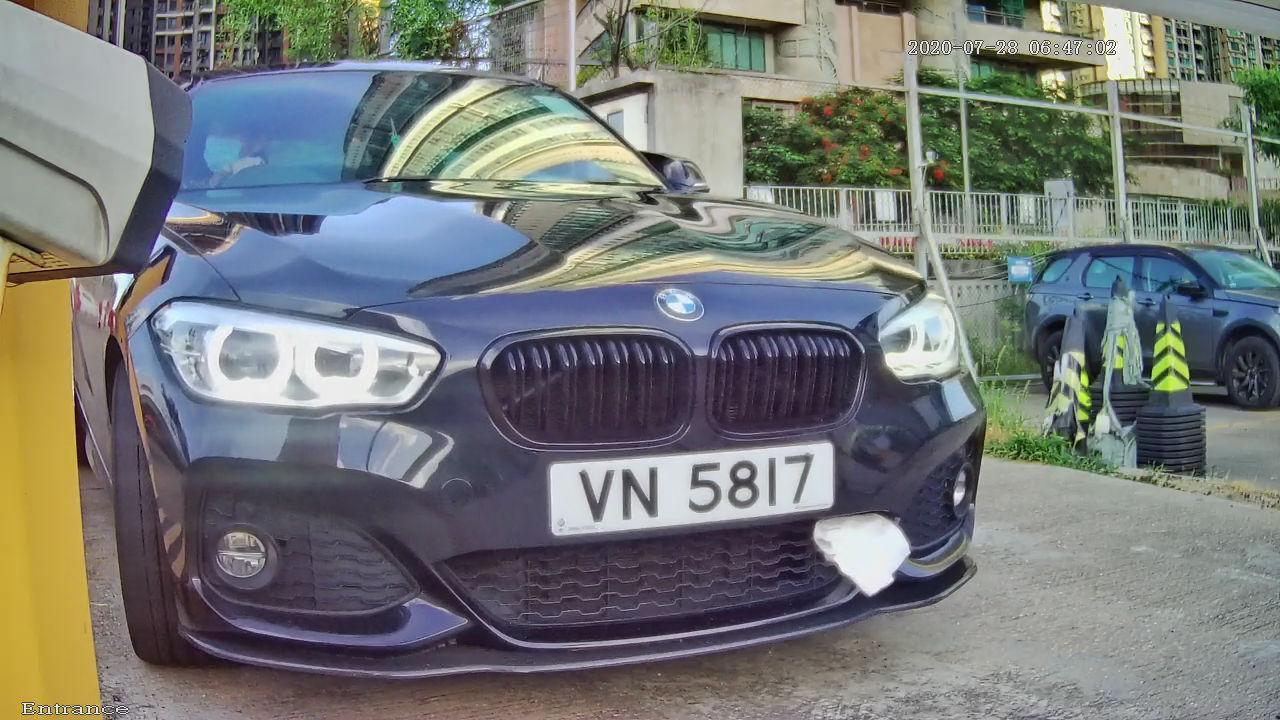privatecar: (23, 20, 1149, 717)
